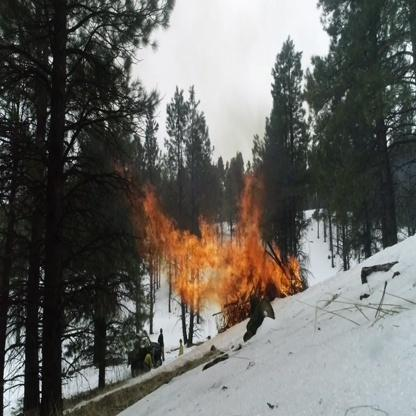Fire: (112, 158, 309, 325)
